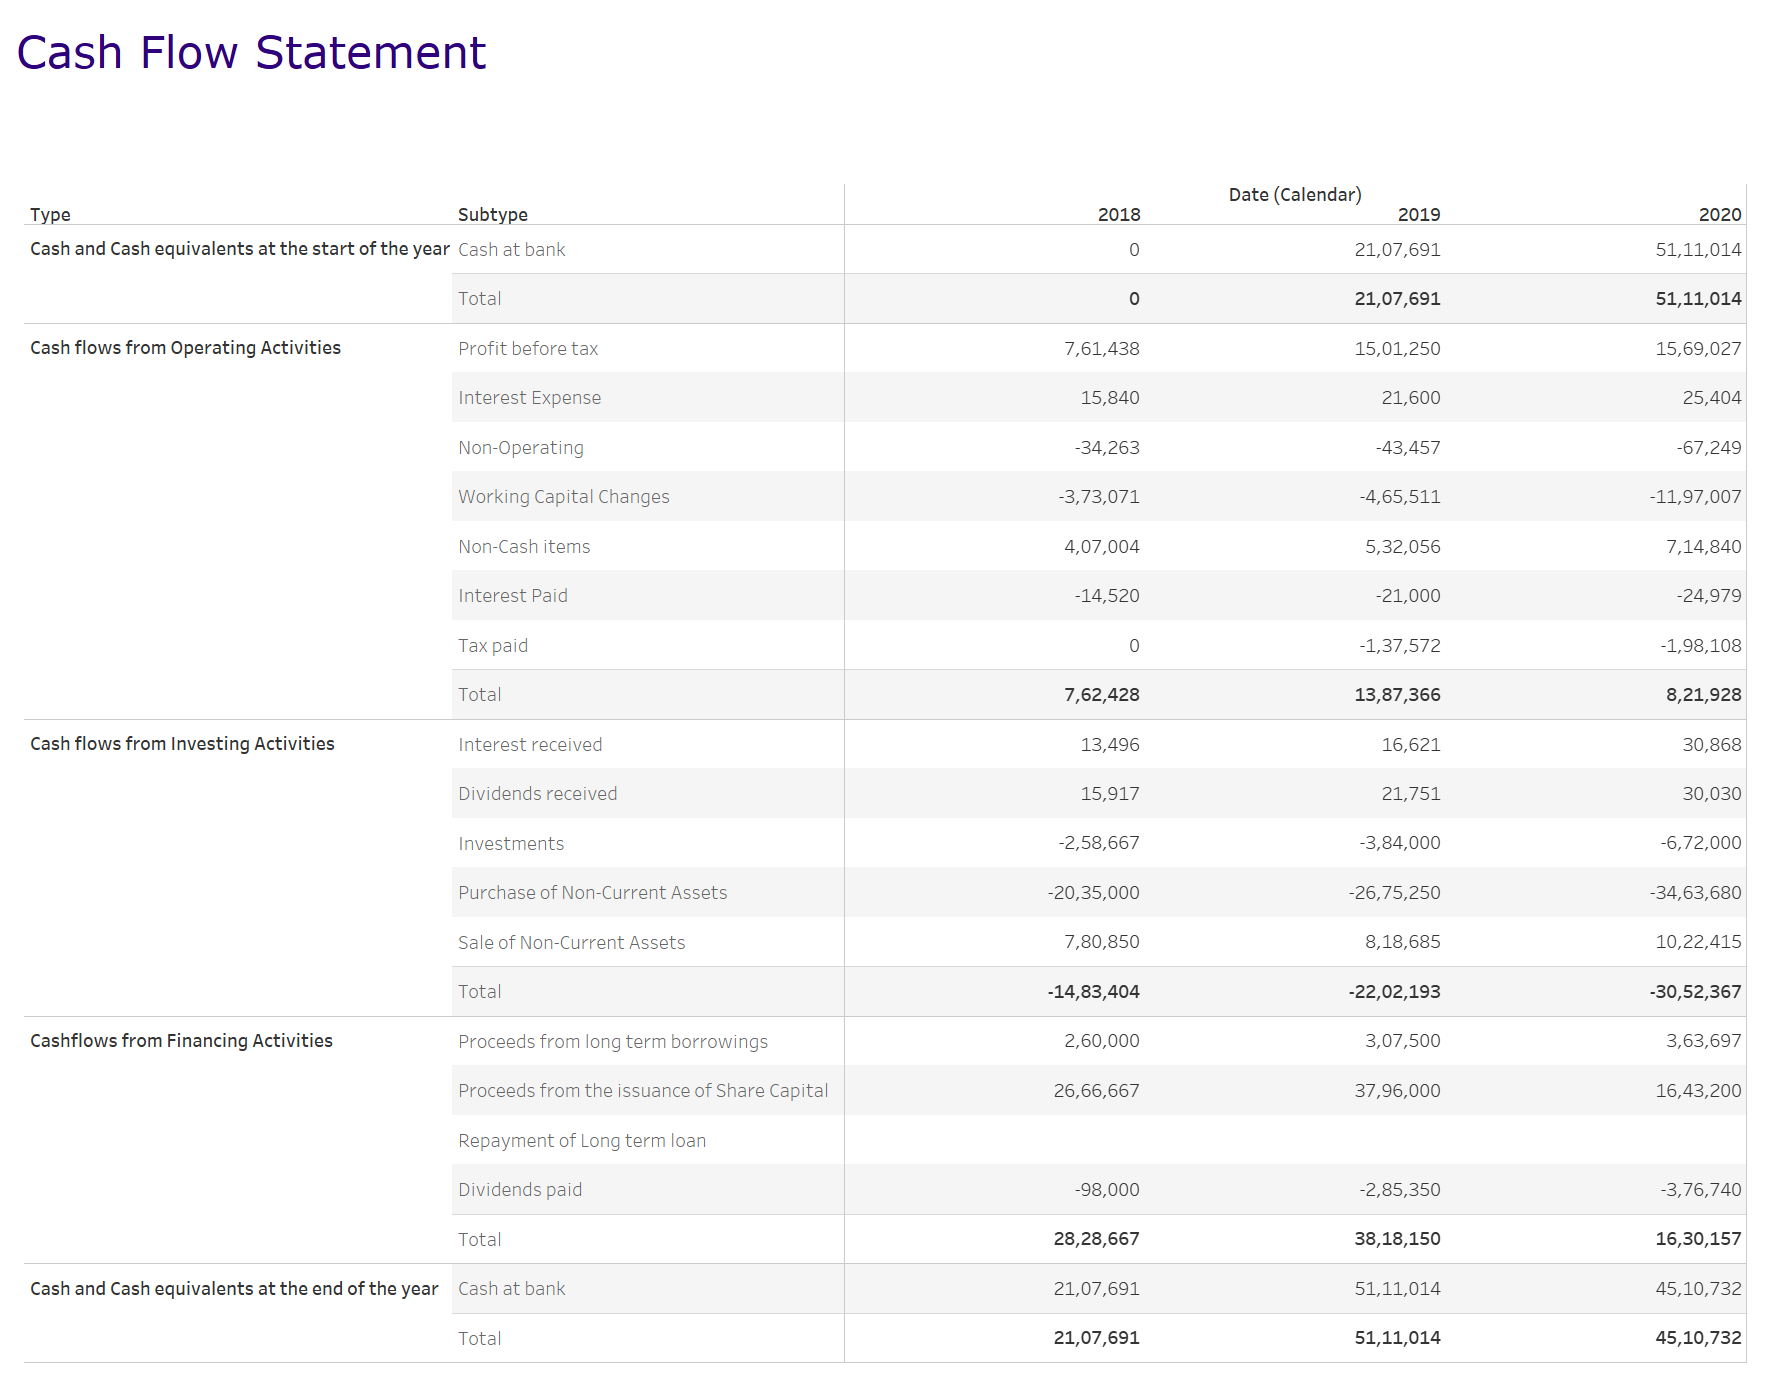

The page's visual inventory and layout, read from the dashboard file:
{"tool":"tableau","page":{"name":"Cash Flow Statement","canvas":[1000,1000],"units":"permille","ordinal":0},"visuals":[{"type":"title","box":[3.6,6,992.8,64.8]},{"type":"worksheet","title":"Cashflow","mark":"Automatic","rows":["Type","Subtype"],"cols":["Date (Calendar)"],"box":[9.4,118.4,673,757.9]}]}

Visuals, with their boxes on the dashboard's canvas, which has no fixed pixel size, in thousandths of its width and height (x1, y1, x2, y2). These are canvas units, not pixel positions in the 1787x1389 screenshot, which may show the page scaled, cropped or inside an application window:
title: region(4, 6, 996, 71)
"Cashflow" worksheet: region(9, 118, 682, 876)
